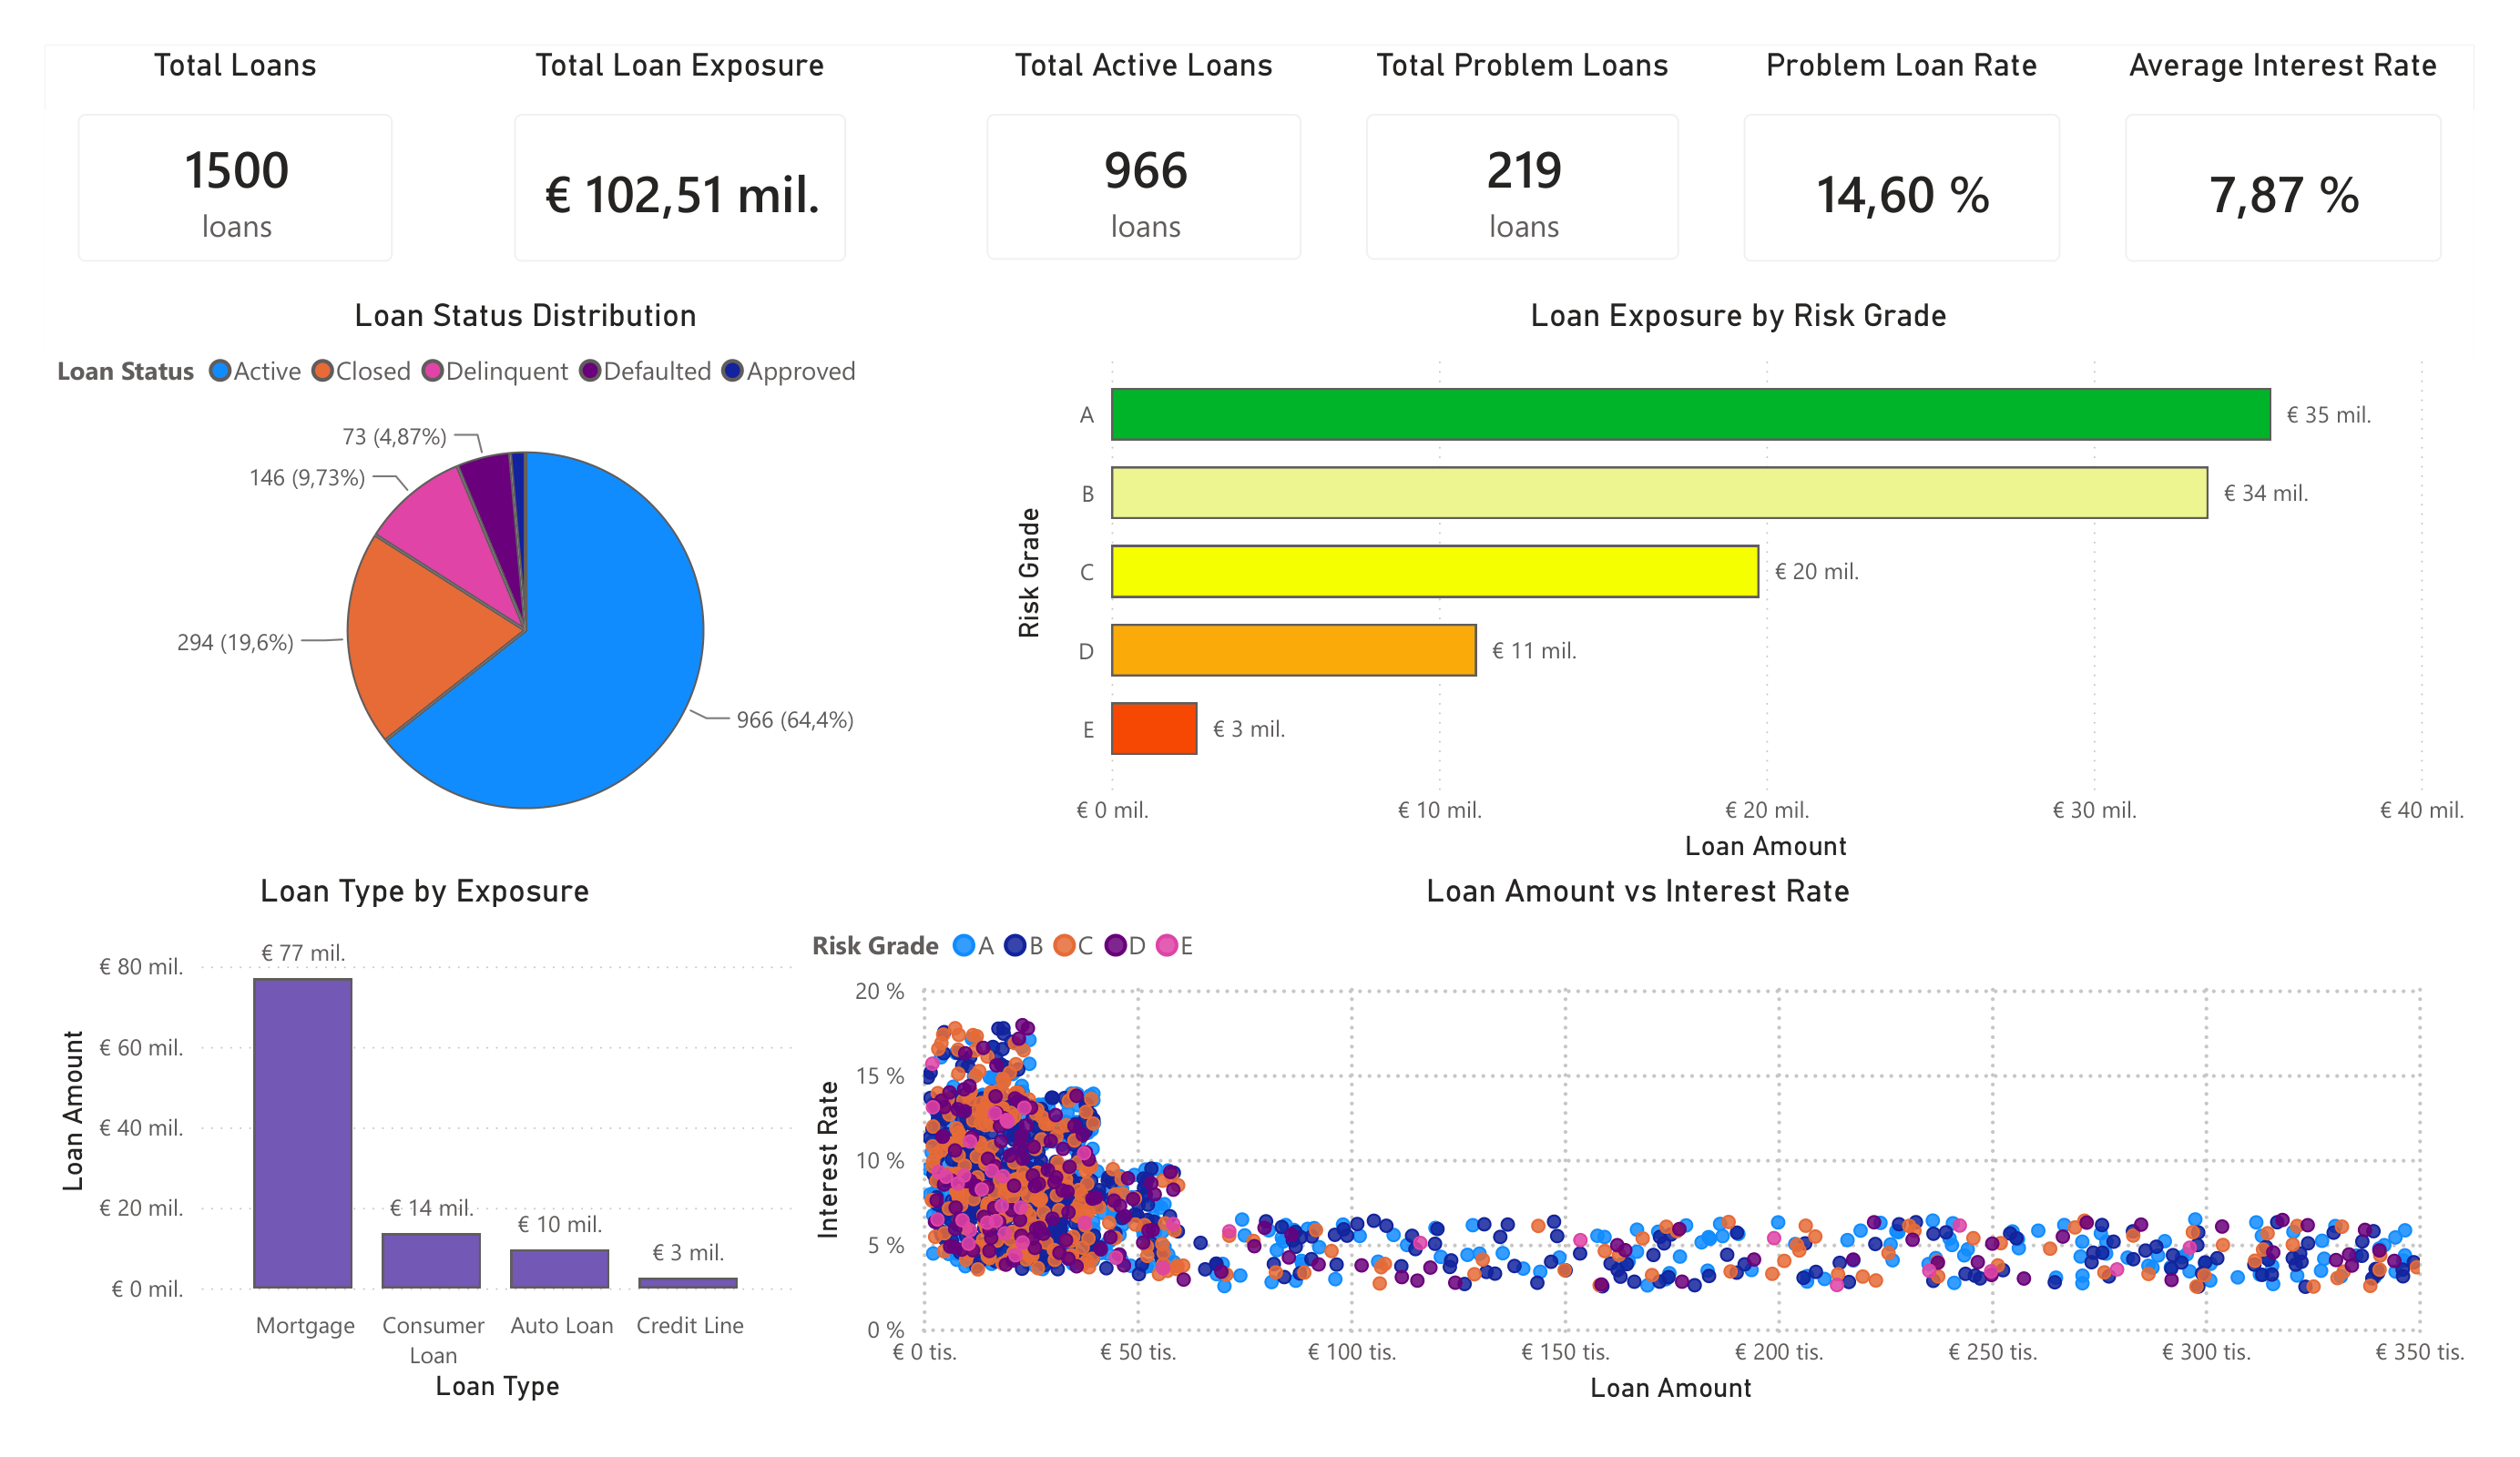

The dashboard page shown, as its layout file describes it:
{"tool":"powerbi","page":{"name":"Loan Portfolio & Delinquency","canvas":[1280,720],"ordinal":2},"visuals":[{"type":"cardVisual","title":"Total Loans","fields":{"Data":["CountNonNull(loan_portfolio_base.loan_id)"]},"box":[0,0,200.3,131.7],"z":0},{"type":"cardVisual","title":"Total Loan Exposure","fields":{"Data":["Sum(loan_portfolio_base.loan_amount)"]},"box":[229.9,0,209.3,132.2],"z":1},{"type":"cardVisual","title":"Total Active Loans","fields":{"Data":["_Measures.Active Loans"]},"box":[479.1,0,199.6,130.8],"z":2},{"type":"cardVisual","title":"Total Problem Loans","fields":{"Data":["_Measures.Problem Loans"]},"box":[678.7,0,199.6,130.8],"z":3},{"type":"cardVisual","title":"Problem Loan Rate","fields":{"Data":["_Measures.Problem Loan Rate"]},"box":[878.3,0,201,132.2],"z":4},{"type":"cardVisual","title":"Average Interest Rate","fields":{"Data":["_Measures.Average Interest Rate"]},"box":[1079.3,0,201,132.2],"z":5},{"type":"pieChart","title":"Loan Status Distribution","fields":{"Category":["loan_portfolio_base.loan_status"],"Y":["CountNonNull(loan_portfolio_base.loan_id)"]},"box":[1.4,132.2,503.9,302.9],"z":6},{"type":"barChart","title":"Loan Exposure by Risk Grade","fields":{"Category":["loan_portfolio_base.risk_grade"],"Y":["Sum(loan_portfolio_base.loan_amount)"]},"box":[505.2,132.2,775.1,302.9],"z":7},{"type":"columnChart","title":"Loan Type by Exposure","fields":{"Category":["loan_portfolio_base.loan_type"],"Y":["Sum(loan_portfolio_base.loan_amount)"]},"box":[1.4,435,397.9,285],"z":8},{"type":"scatterChart","title":"Loan Amount vs Interest Rate","fields":{"X":["Sum(loan_portfolio_base.loan_amount)"],"Category":["loan_portfolio_base.loan_id"],"Series":["loan_portfolio_base.risk_grade"],"Y":["Sum(loan_portfolio_base.Interest Rate Rate)"]},"box":[399.2,435,881.1,285],"z":9}]}

Visuals, with their boxes on the page's 1280x720 design canvas (x1, y1, x2, y2). These are canvas units, not pixel positions in the 2520x1457 screenshot, which may show the page scaled, cropped or inside an application window:
"Total Loans" cardVisual: detection(0, 0, 200, 132)
"Total Loan Exposure" cardVisual: detection(230, 0, 439, 132)
"Total Active Loans" cardVisual: detection(479, 0, 679, 131)
"Total Problem Loans" cardVisual: detection(679, 0, 878, 131)
"Problem Loan Rate" cardVisual: detection(878, 0, 1079, 132)
"Average Interest Rate" cardVisual: detection(1079, 0, 1280, 132)
"Loan Status Distribution" pieChart: detection(1, 132, 505, 435)
"Loan Exposure by Risk Grade" barChart: detection(505, 132, 1280, 435)
"Loan Type by Exposure" columnChart: detection(1, 435, 399, 720)
"Loan Amount vs Interest Rate" scatterChart: detection(399, 435, 1280, 720)
